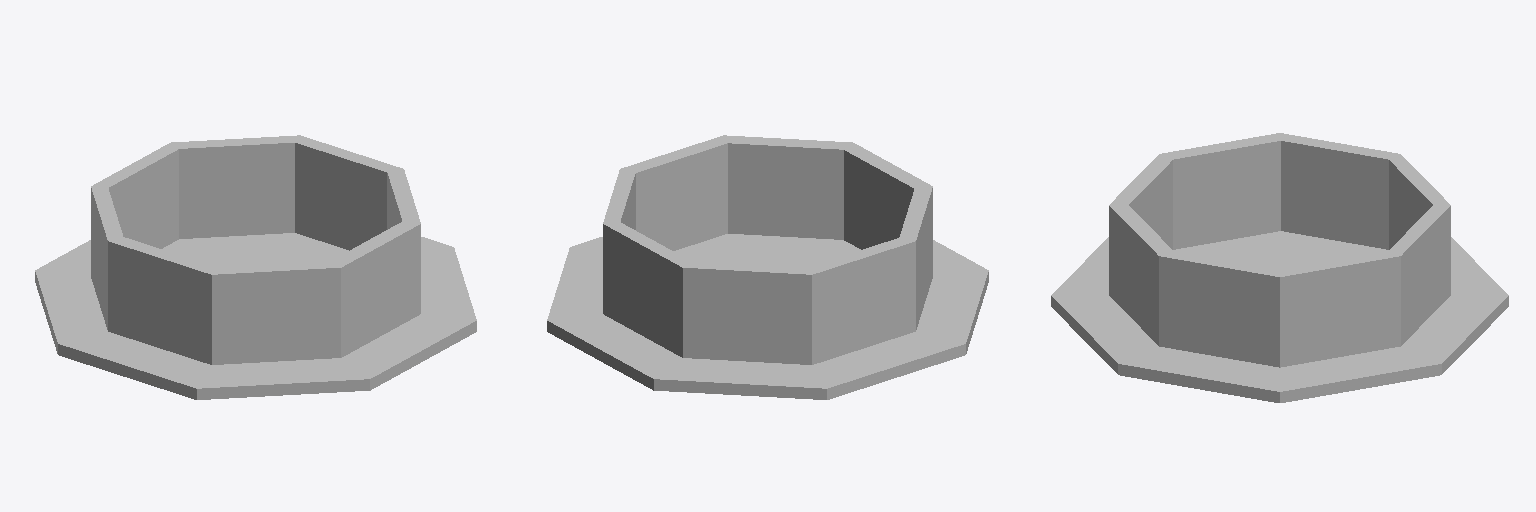
Rendered from well.obj.
3 views of the same model, side by side, from view 1: azimuth 30°, elevation 25°; view 2: azimuth 150°, elevation 25°; view 3: azimuth 270°, elevation 25° (orthographic).
Parts seen in each view (by area): view 1: Mesh1 Model; view 2: Mesh1 Model; view 3: Mesh1 Model.
Part boxes in pixels (left/top/right/bottom): Mesh1 Model: left=35, top=135, right=476, bottom=399; Mesh1 Model: left=547, top=135, right=988, bottom=399; Mesh1 Model: left=1051, top=133, right=1508, bottom=402.
Bounding box in the file's own units: 219 × 53.76 × 219.